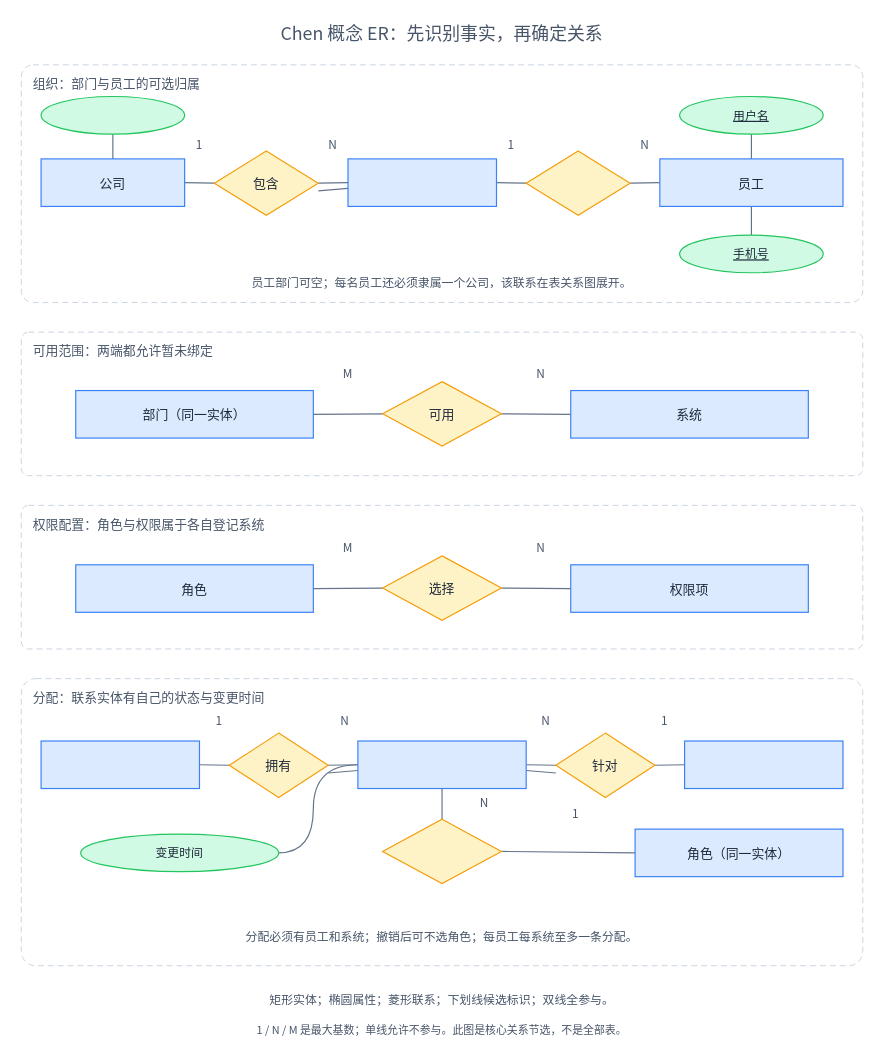
Some shapes in this 884 by 1056 pixel diagram are drawn without their labels. The shapes that lost their labels are listed below. From the top down, each one's centre as x and y in pixels, then its label:
At point (112, 114): "公司标识".
At point (422, 182): "部门".
At point (577, 182): "归属".
At point (120, 764): "员工（同一实体）".
At point (441, 764): "角色分配".
At point (763, 764): "系统（同一实体）".
At point (442, 851): "选定".
